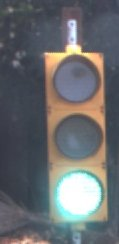Green: (34, 34, 111, 232)
